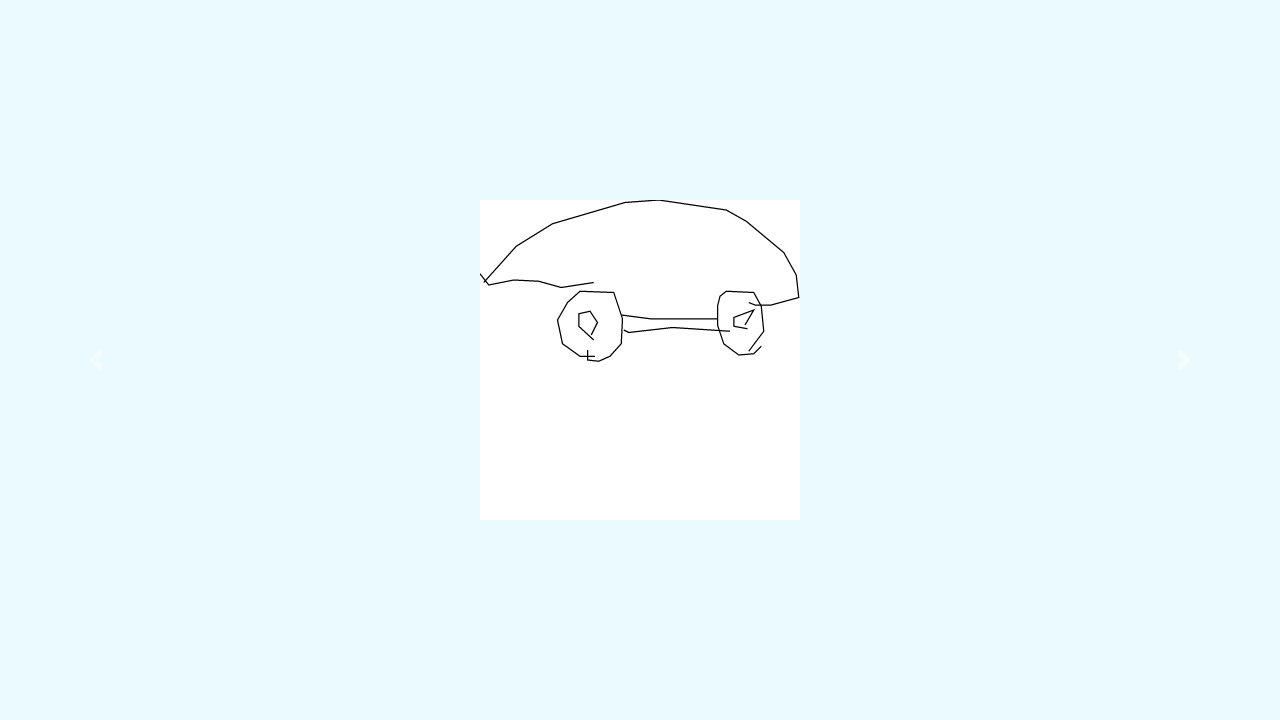car: (474, 194, 806, 369)
